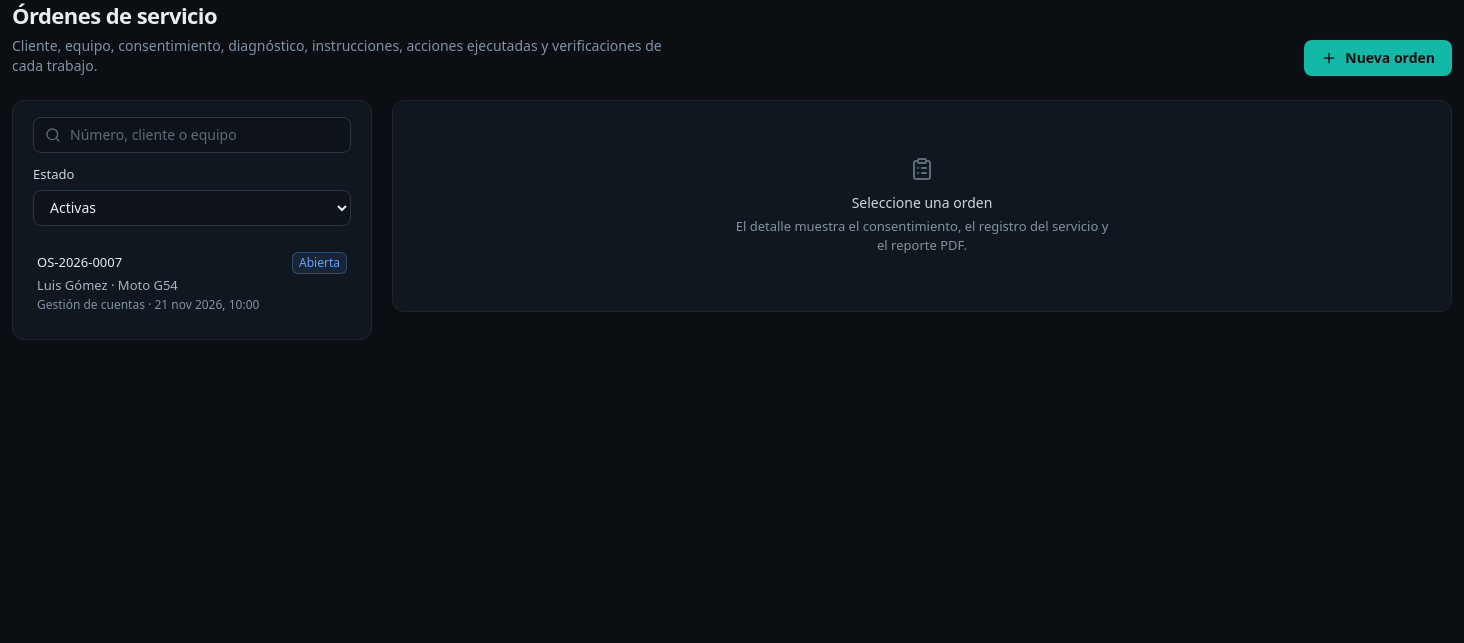
it: service orders › links recorded work and generates the PDF report
Later steps or results of the test are not shown.
Click the button "OS-2026-0007". click: (80, 262)
box: [25,242,359,322]
(page scrolled)
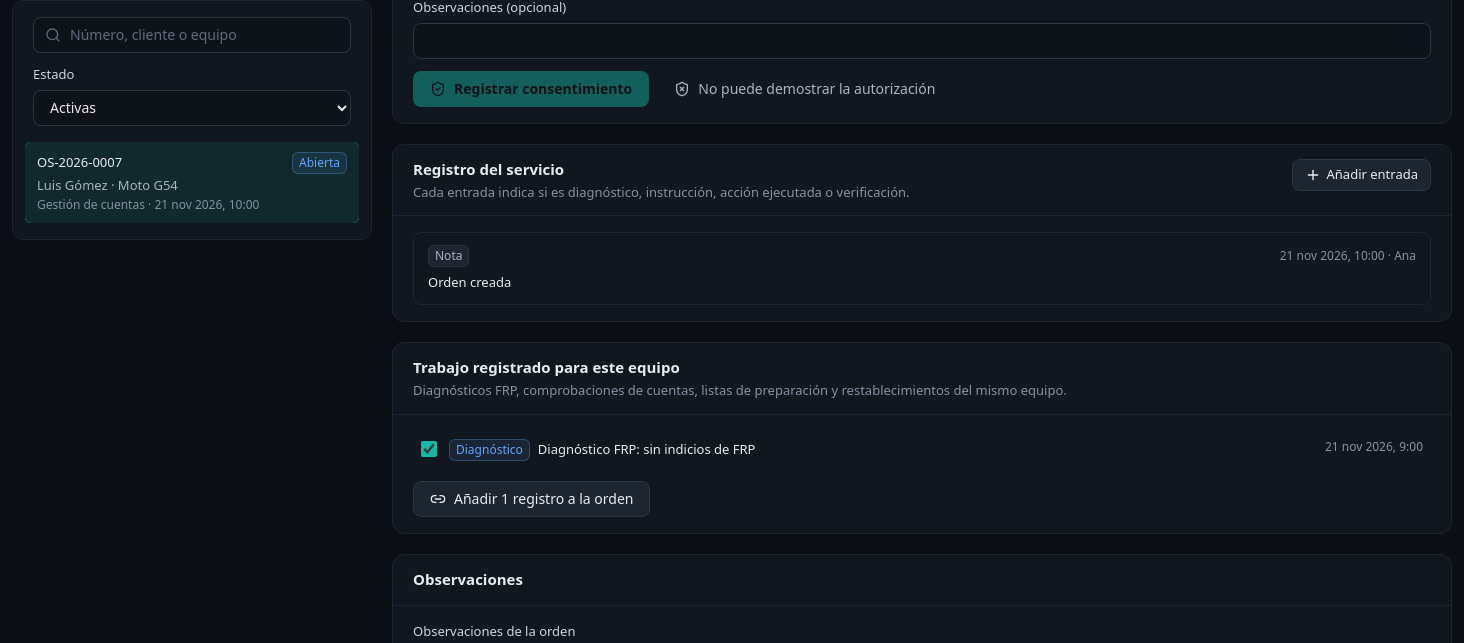
Now the text "Diagnóstico FRP: sin indicios de FRP" is shown, box [538,440,755,459]
Click the button "Añadir 1 registro a la orden". click: (532, 499)
box: [413,481,650,517]
(page scrolled)
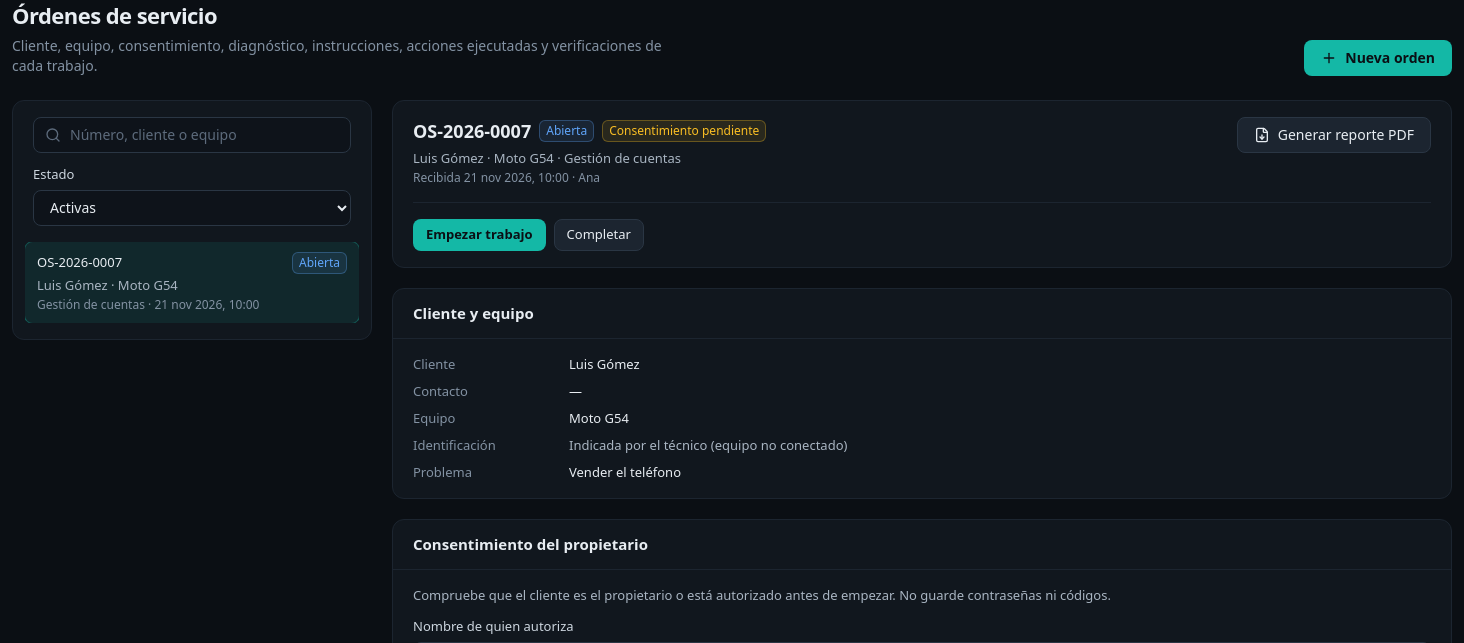
Click the button "Generar reporte PDF". click: (1334, 135)
box: [1237,117,1431,153]
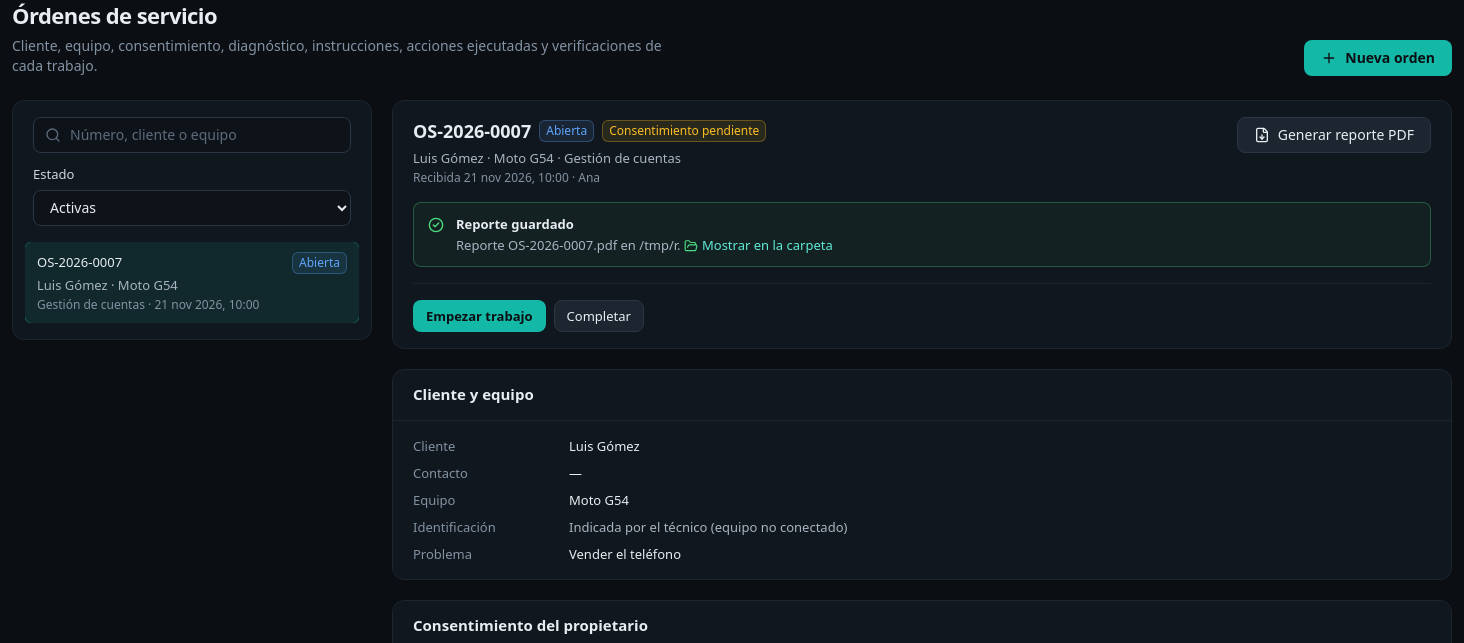
Now the text "Reporte OS-2026-0007.pdf" is shown, box [456,236,617,254]
